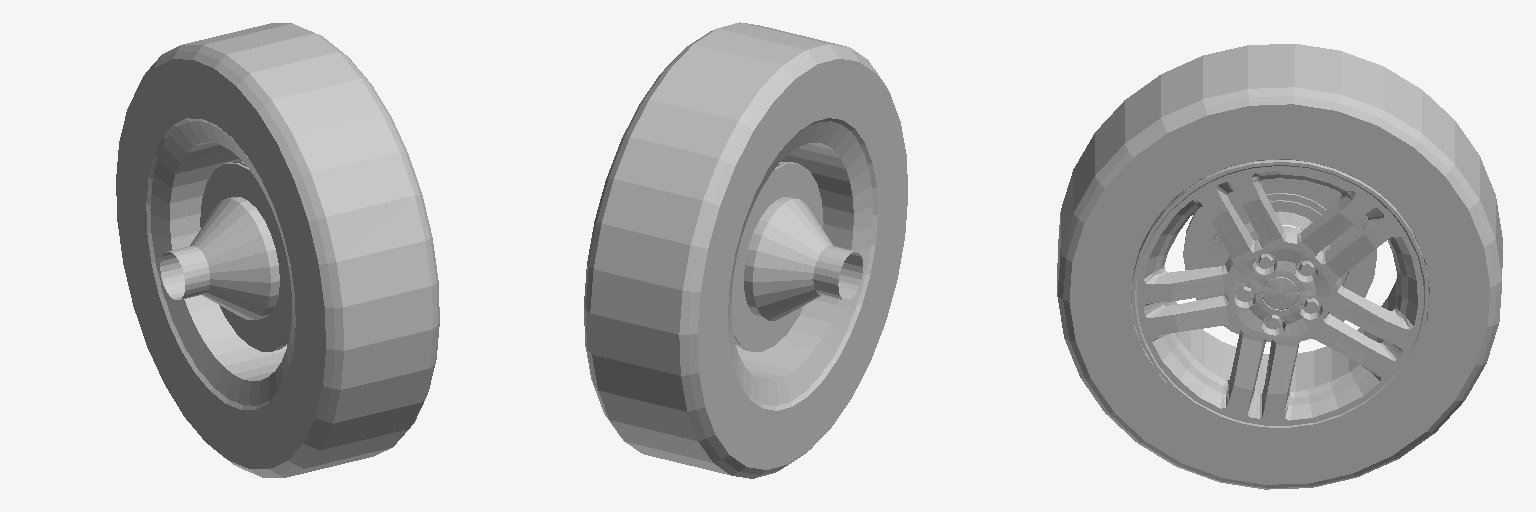
File: BackLeft_Truck.obj
3 renders of one model, left to right at view 1: azimuth 30°, elevation 25°; view 2: azimuth 150°, elevation 25°; view 3: azimuth 270°, elevation 25°, orthographic.
Visible parts, largest first — view 1: HintenLinks_uploads_files_862940_silverado.001; view 2: HintenLinks_uploads_files_862940_silverado.001; view 3: HintenLinks_uploads_files_862940_silverado.001.
Part boxes in pixels (x1,y1,x2,y2): HintenLinks_uploads_files_862940_silverado.001: (116, 23, 439, 477); HintenLinks_uploads_files_862940_silverado.001: (584, 22, 907, 478); HintenLinks_uploads_files_862940_silverado.001: (1057, 44, 1502, 489).
Size of the model in its own units: 37.53 by 86.99 by 87.09.